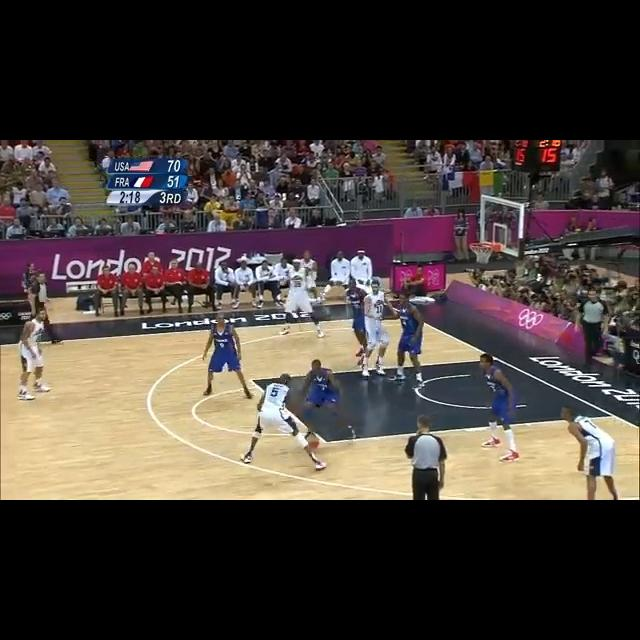basketball: (306, 435, 320, 449)
hoop: (469, 241, 495, 263)
